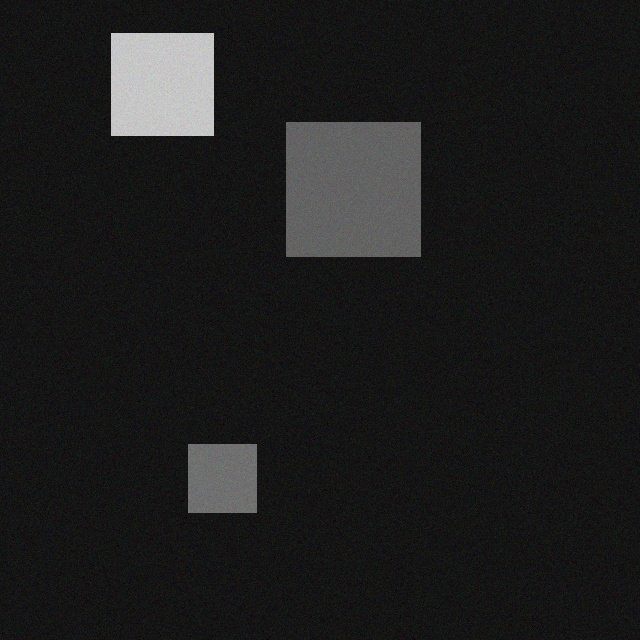square: (300, 132, 434, 266), (125, 43, 227, 145), (202, 454, 270, 522)
